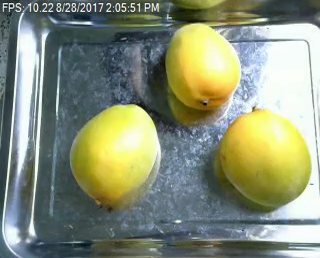Mango: (68, 102, 162, 212), (218, 109, 311, 206), (158, 20, 241, 110)
